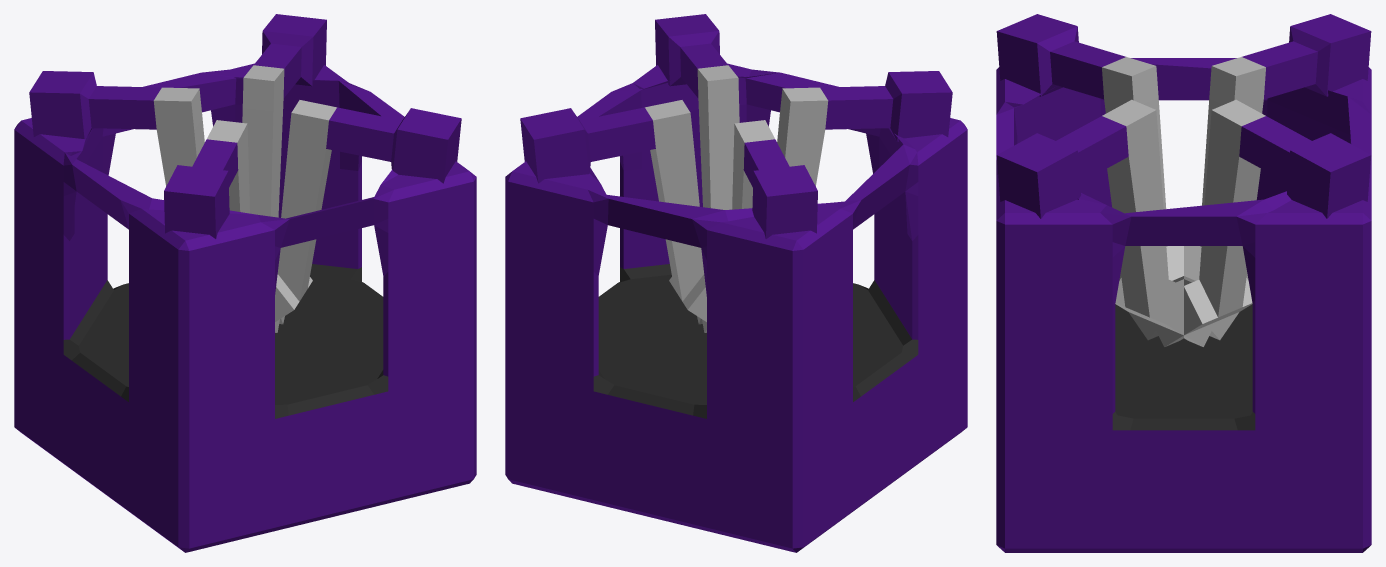
The model's file is assembler.fbx.
3 renders of one model, left to right at view 1: azimuth 30°, elevation 25°; view 2: azimuth 150°, elevation 25°; view 3: azimuth 270°, elevation 25°, orthographic. The views are drawn at different scales.
Visible parts, largest first — view 1: Base, RobotArm.002, Cube.004, RobotArm, Cube.002, RobotArm.003, RobotArm.001, Cube.003, Cube.005; view 2: Base, RobotArm.001, RobotArm.003, Cube.002, RobotArm, Cube.004, RobotArm.002, Cube.005, Cube.003; view 3: Base, Cube.004, Cube.002, RobotArm.002, RobotArm.001, RobotArm.003, RobotArm, Cube.005, Cube.003.
Boxes of the visible parts, left/top/right/bottom form: Base: left=14, top=63, right=476, bottom=552; RobotArm.002: left=326, top=107, right=461, bottom=183; Cube.004: left=275, top=100, right=336, bottom=321; RobotArm: left=29, top=71, right=161, bottom=138; Cube.002: left=242, top=65, right=284, bottom=324; RobotArm.003: left=164, top=139, right=238, bottom=238; RobotArm.001: left=254, top=14, right=326, bottom=97; Cube.003: left=153, top=87, right=204, bottom=186; Cube.005: left=207, top=120, right=279, bottom=332; Base: left=505, top=63, right=967, bottom=552; RobotArm.001: left=520, top=107, right=655, bottom=183; RobotArm.003: left=820, top=71, right=952, bottom=141; Cube.002: left=645, top=100, right=706, bottom=321; RobotArm: left=743, top=139, right=817, bottom=238; Cube.004: left=697, top=65, right=739, bottom=324; RobotArm.002: left=655, top=14, right=727, bottom=97; Cube.005: left=777, top=87, right=828, bottom=186; Cube.003: left=702, top=120, right=774, bottom=332; Base: left=996, top=58, right=1371, bottom=552; Cube.004: left=1102, top=99, right=1215, bottom=346; Cube.002: left=1156, top=99, right=1265, bottom=346; RobotArm.002: left=996, top=116, right=1128, bottom=218; RobotArm.001: left=1239, top=116, right=1371, bottom=218; RobotArm.003: left=996, top=14, right=1125, bottom=99; RobotArm: left=1242, top=14, right=1371, bottom=99; Cube.005: left=1102, top=57, right=1191, bottom=340; Cube.003: left=1176, top=57, right=1265, bottom=340.
Bounding box in the file's own units: 2 × 2 × 2.29.
